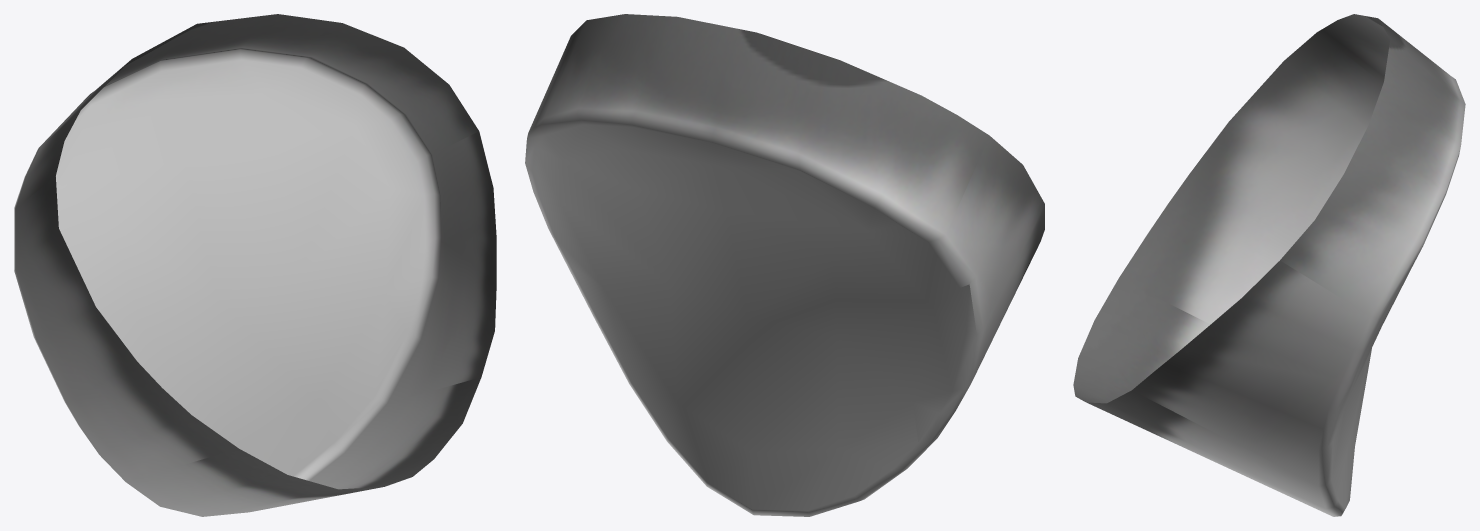
3 renders of one model, left to right at view 1: azimuth 30°, elevation 25°; view 2: azimuth 150°, elevation 25°; view 3: azimuth 270°, elevation 25°, orthographic. The views are drawn at different scales.
Bounding box in the file's own units: 0.0288 × 0.0312 × 0.0243.
Materials: 1 (1 with a texture image).
